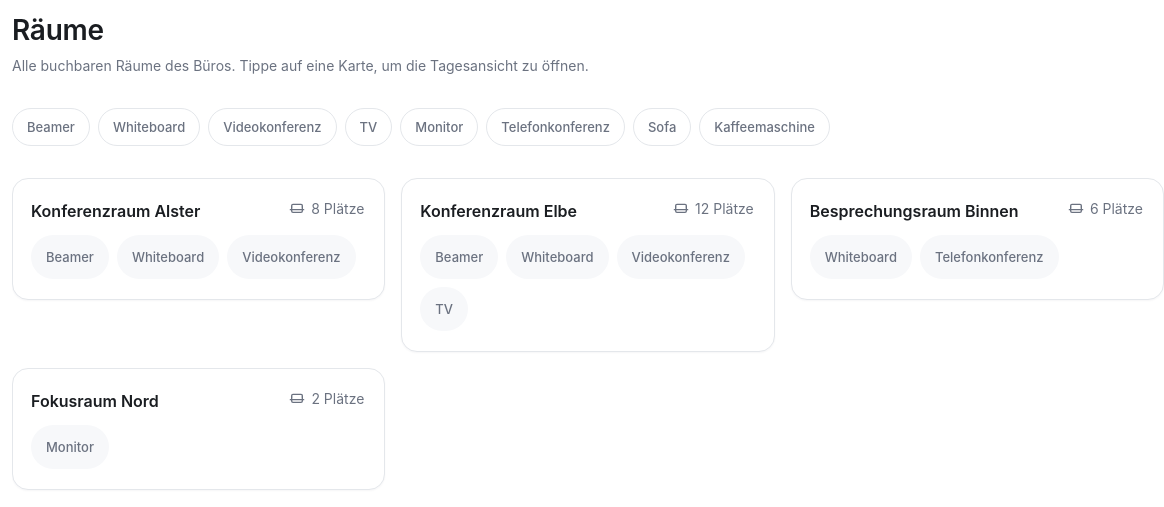
Test: RoomList › narrows the list immediately when a filter chip is toggled
Check: the link "Konferenzraum Alster" is shown, box [12,178,385,300]
Click the button "TV". click: {"x": 368, "y": 127}
box: [345,108,392,146]
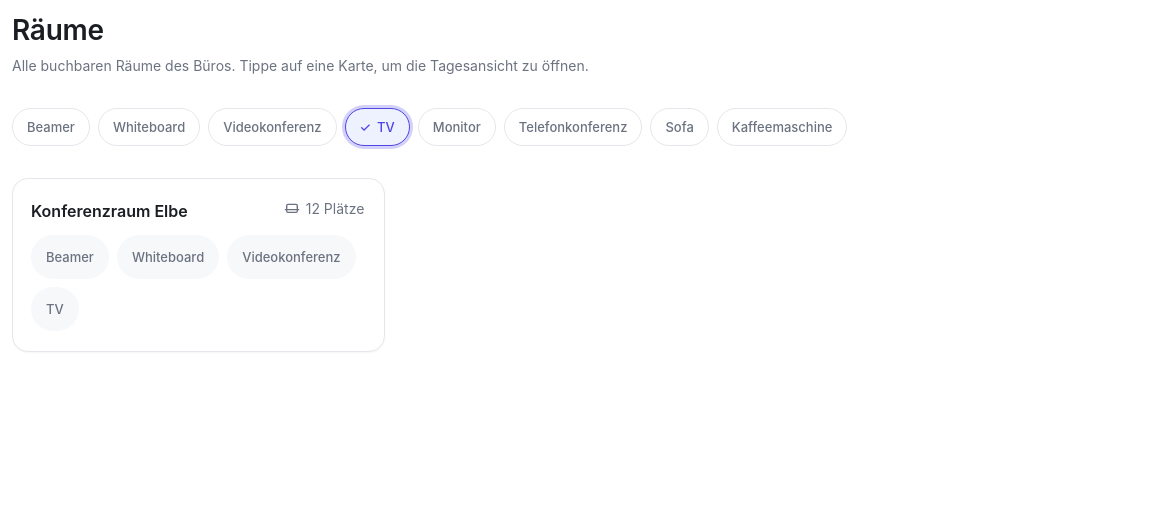
Check: the link "Konferenzraum Elbe" is shown, box [12,178,385,352]
Check: the link "Konferenzraum Alster" is gone
Check: the link "Fokusraum Nord" is gone
